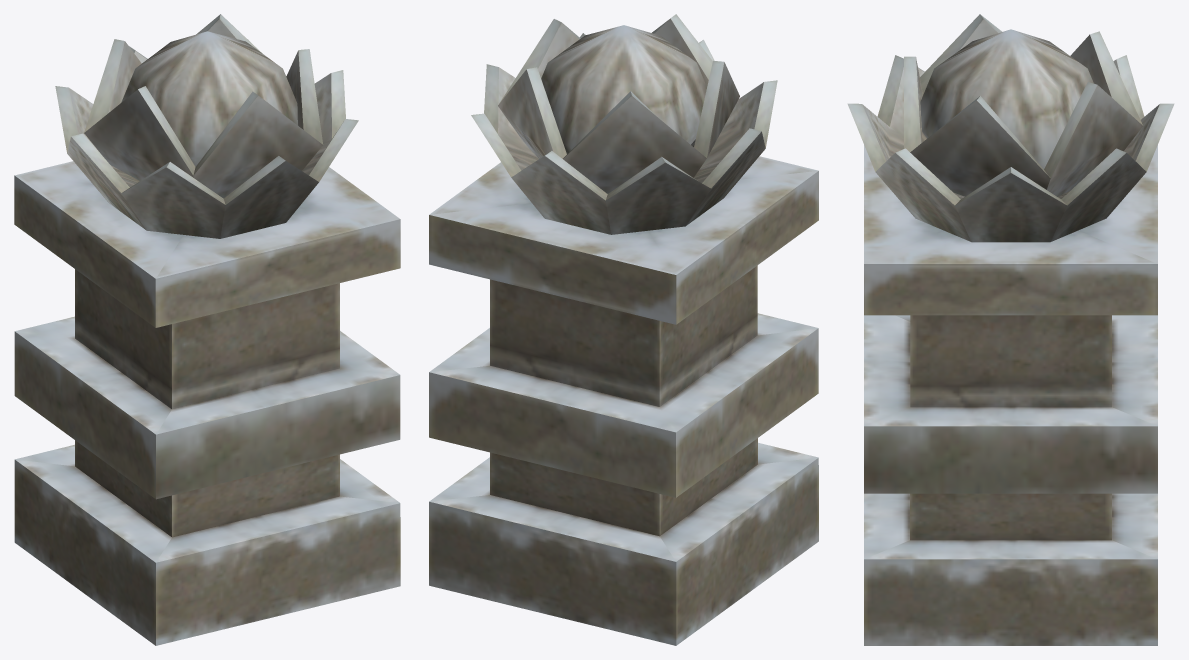
3 views of the same model, side by side, from view 1: azimuth 30°, elevation 25°; view 2: azimuth 150°, elevation 25°; view 3: azimuth 270°, elevation 25° (orthographic). The views are drawn at different scales.
Parts seen in each view (by area): view 1: M5_P_ta2; view 2: M5_P_ta2; view 3: M5_P_ta2.
Boxes of the visible parts, bbox=[...] form: M5_P_ta2: bbox=[14, 14, 400, 645]; M5_P_ta2: bbox=[429, 14, 818, 645]; M5_P_ta2: bbox=[847, 14, 1174, 645].
Size of the model in its own units: 53.65 by 100 by 53.65.
